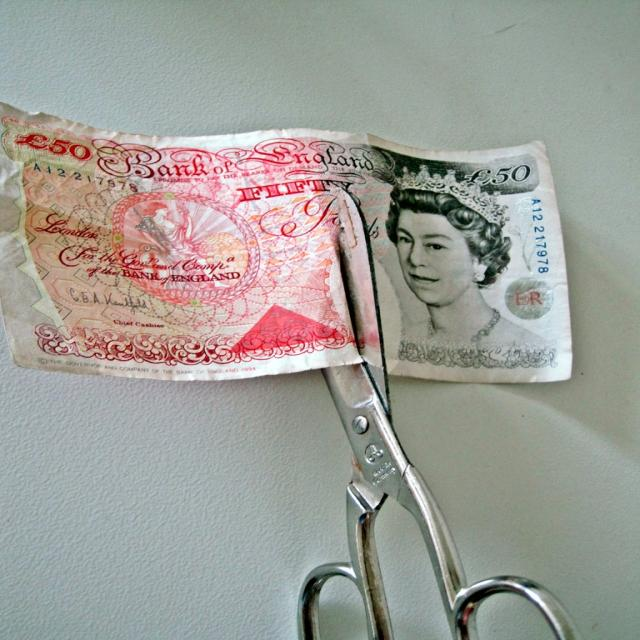scissors: (282, 166, 587, 640)
